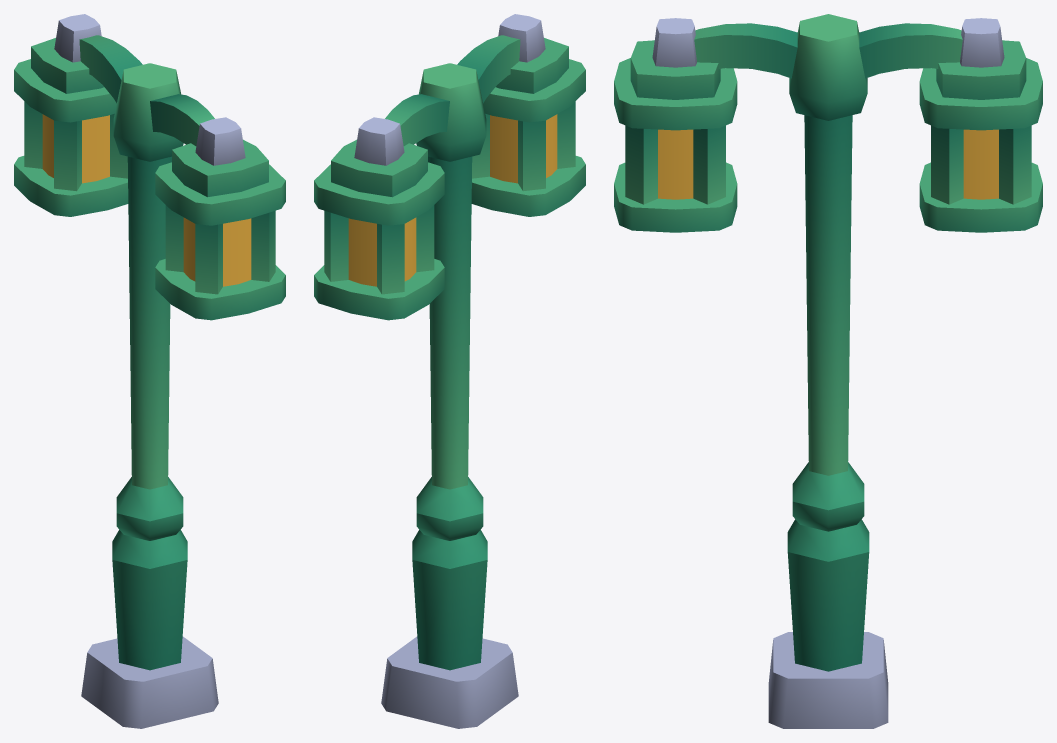
File: lightpost-double.002_lev1.glb
3 renders of one model, left to right at view 1: azimuth 30°, elevation 25°; view 2: azimuth 150°, elevation 25°; view 3: azimuth 270°, elevation 25°, orthographic. The views are drawn at different scales.
Parts seen in each view (by area): view 1: lightpost-double.002_lev1; view 2: lightpost-double.002_lev1; view 3: lightpost-double.002_lev1.
Boxes of the visible parts, left/top/right/bottom form: lightpost-double.002_lev1: left=14, top=14, right=285, bottom=728; lightpost-double.002_lev1: left=314, top=14, right=585, bottom=728; lightpost-double.002_lev1: left=614, top=14, right=1042, bottom=728.
Size of the model in its own units: 1.04 by 6.33 by 3.63.
1 material, 1 textured.
